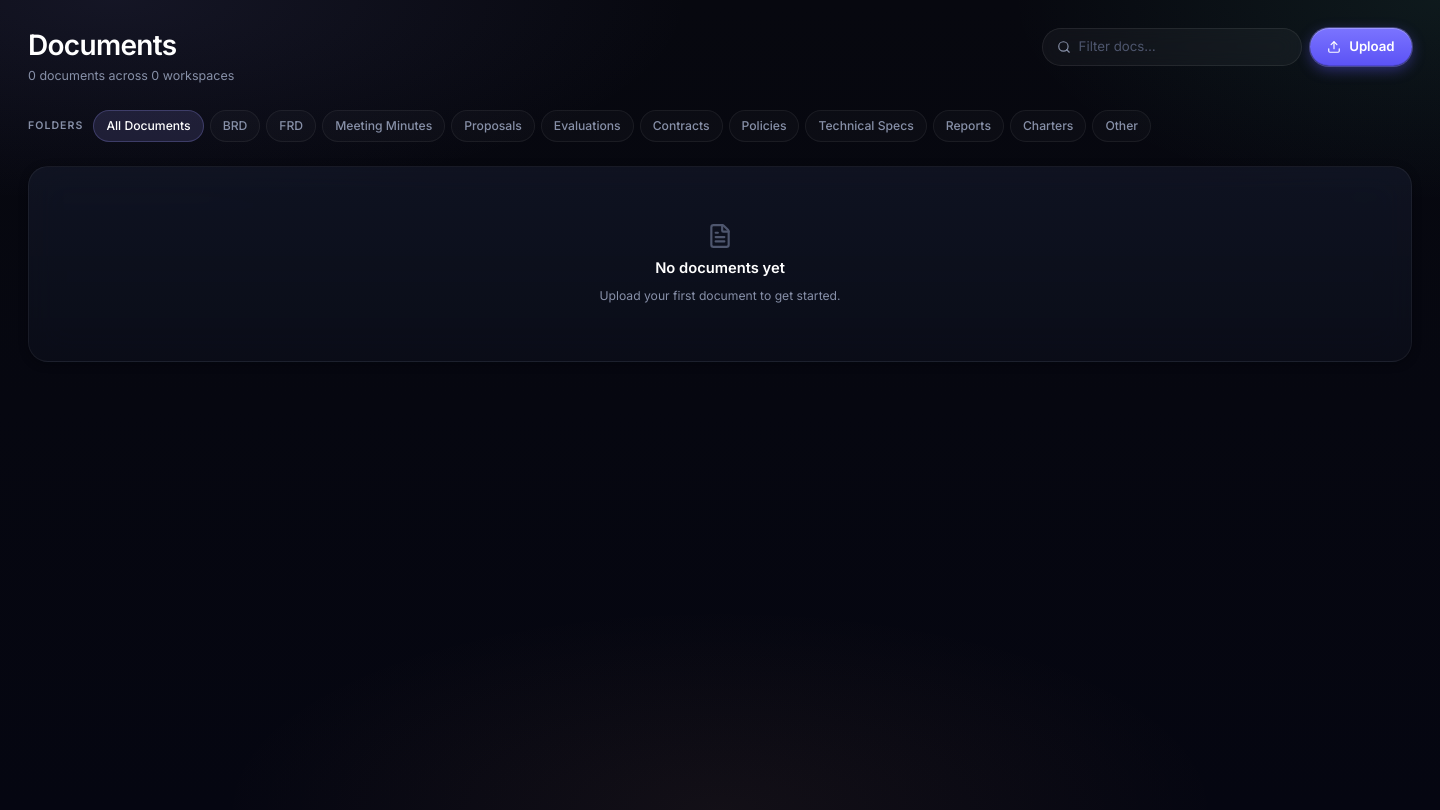
Documents – Upload modal › opens Upload Document modal on button click
Step 1. Click the button "Upload" → (1361, 47), box [1310, 28, 1412, 66]
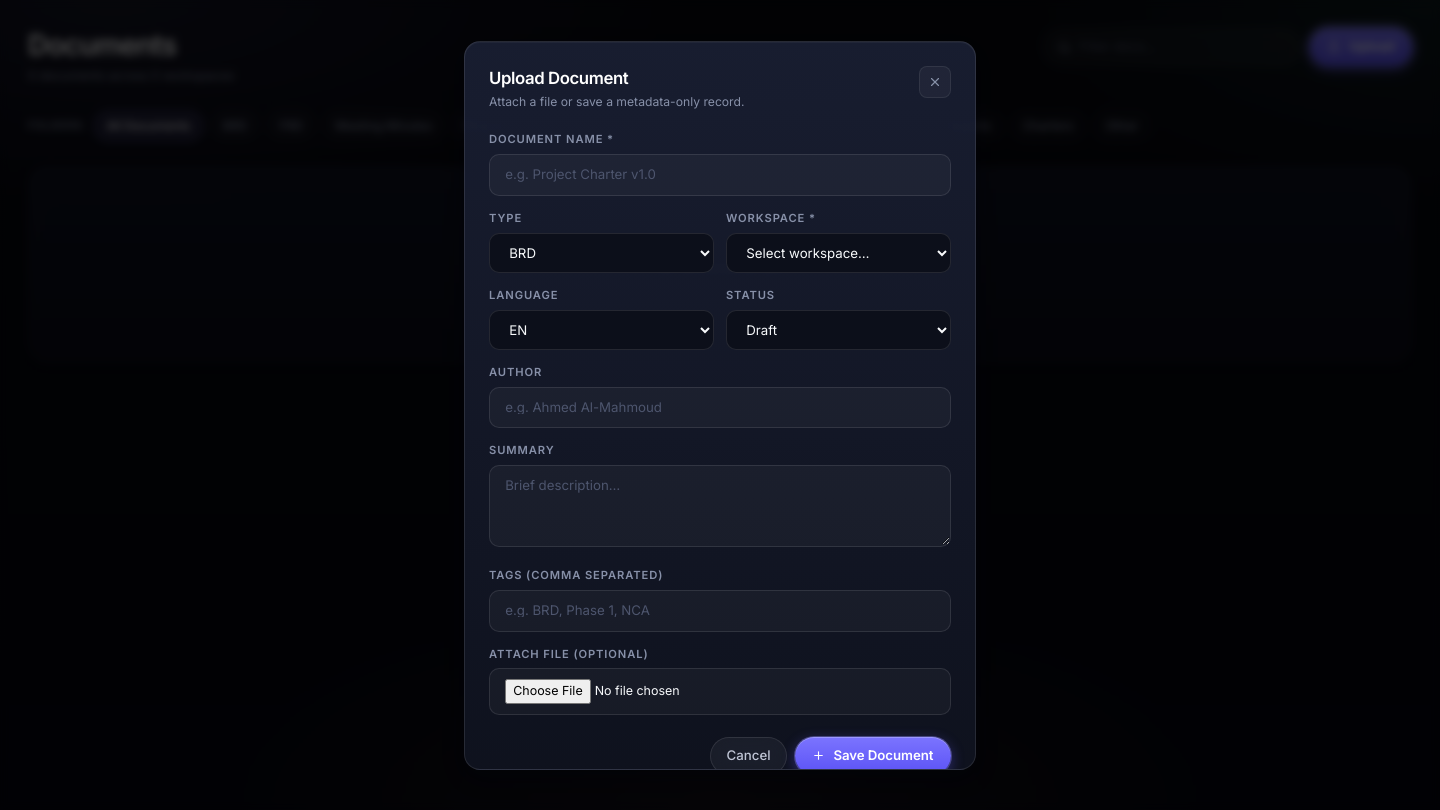
Check: the text "Upload Document" is shown, box [489, 68, 628, 88]
